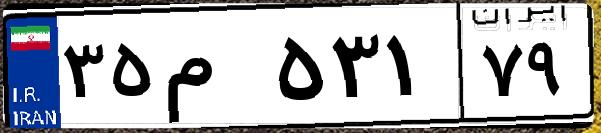1: (385, 28, 445, 110)
3: (330, 28, 385, 110), (57, 26, 110, 100)
5: (270, 28, 330, 110), (110, 28, 158, 98)
7: (475, 38, 525, 113)
9: (525, 38, 570, 115)
م: (158, 20, 270, 120)
